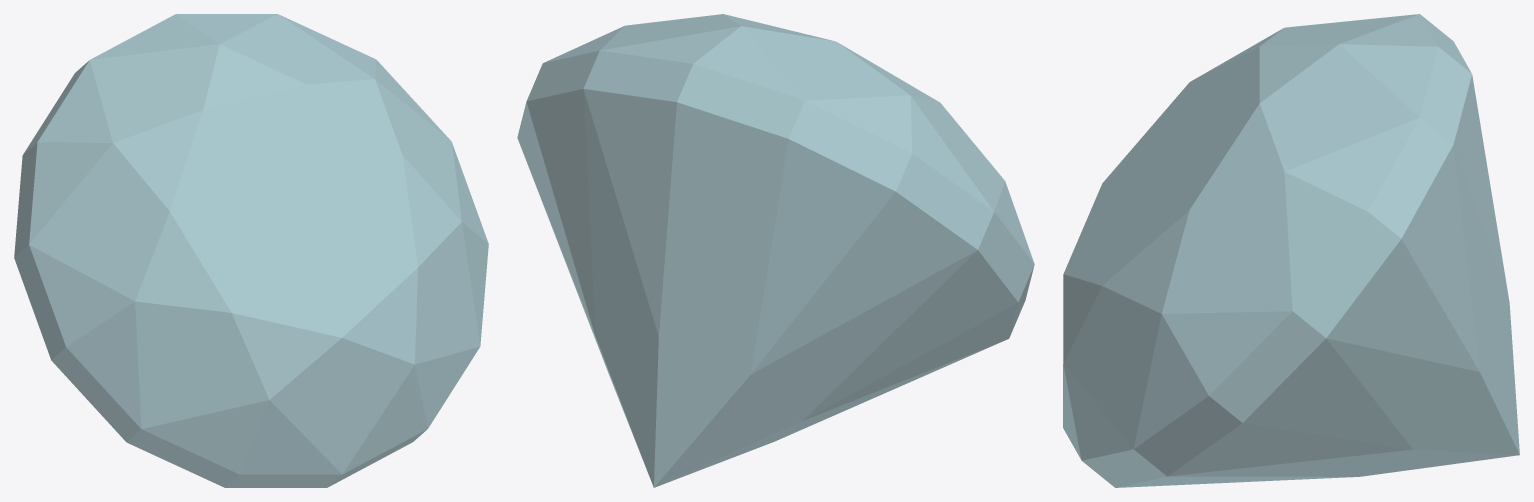
The model's file is cut-diamond-1fd38b.glb.
The picture shows the model from 3 angles, left to right: view 1: azimuth 30°, elevation 25°; view 2: azimuth 150°, elevation 25°; view 3: azimuth 270°, elevation 25°; orthographic projection. The views are drawn at different scales.
Visible parts, largest first — view 1: gem; view 2: gem; view 3: gem.
Part boxes in pixels (x1,y1,x2,y2): gem: [14, 14, 488, 487]; gem: [517, 14, 1034, 487]; gem: [1063, 14, 1519, 487].
Bounding box in the file's own units: 0.117 × 0.0965 × 0.0972.
